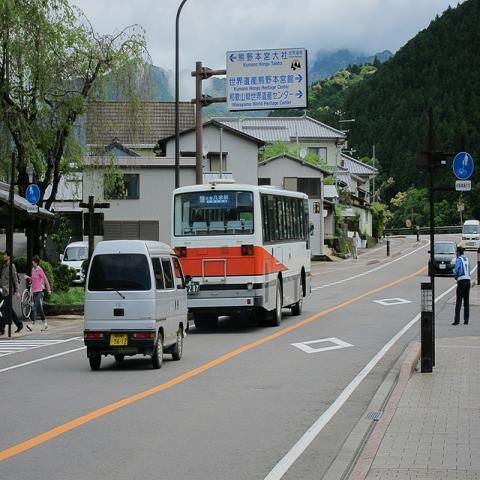bus: (169, 181, 313, 327)
car: (86, 237, 192, 371), (60, 241, 88, 282), (428, 243, 457, 275)
truck: (462, 219, 480, 250)
